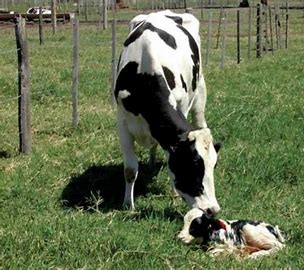waka: (112, 9, 238, 215)
